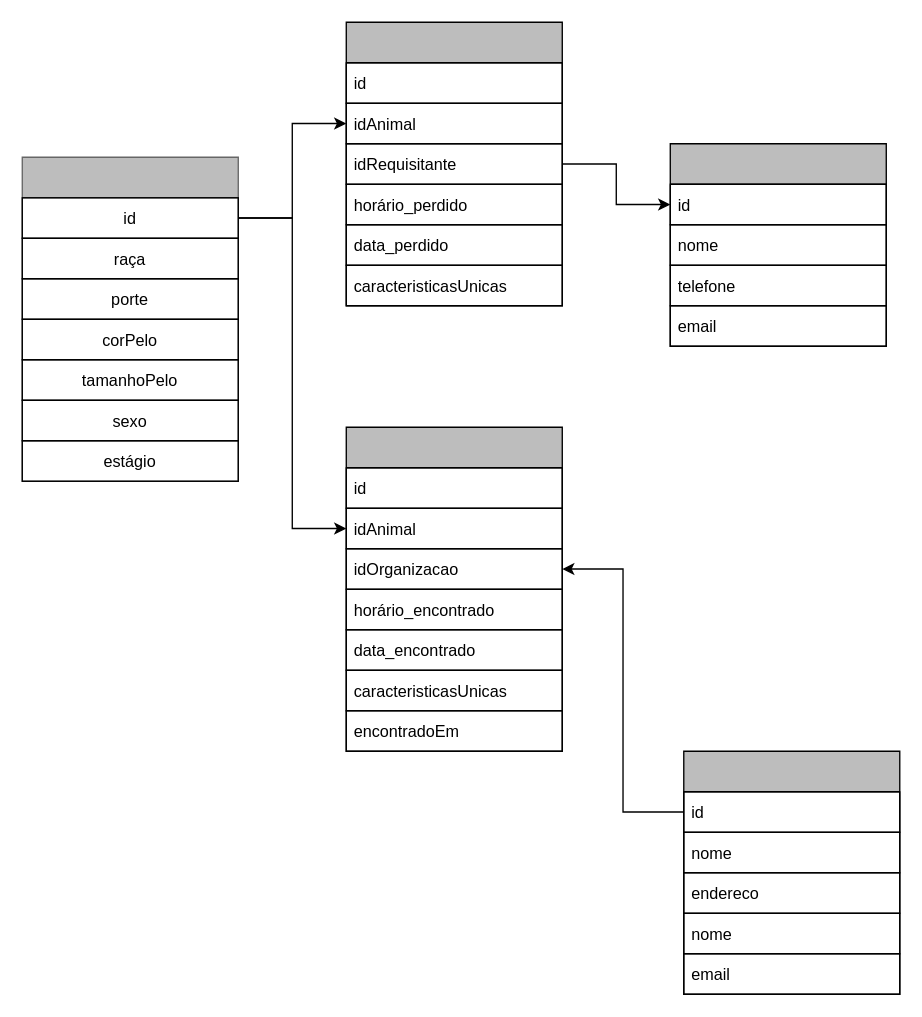
Image size: 922x1017. Some labels were removed from this diagram. The box of each missing label's shape, as (x1, y1, x2, y2) in pixels:
animaisEncontrados: (345, 426, 562, 751)
cachorros: (21, 156, 238, 481)
descriçõesPerdidos: (345, 21, 562, 306)
organizacoes: (682, 750, 900, 994)
usuarios: (669, 142, 886, 346)
